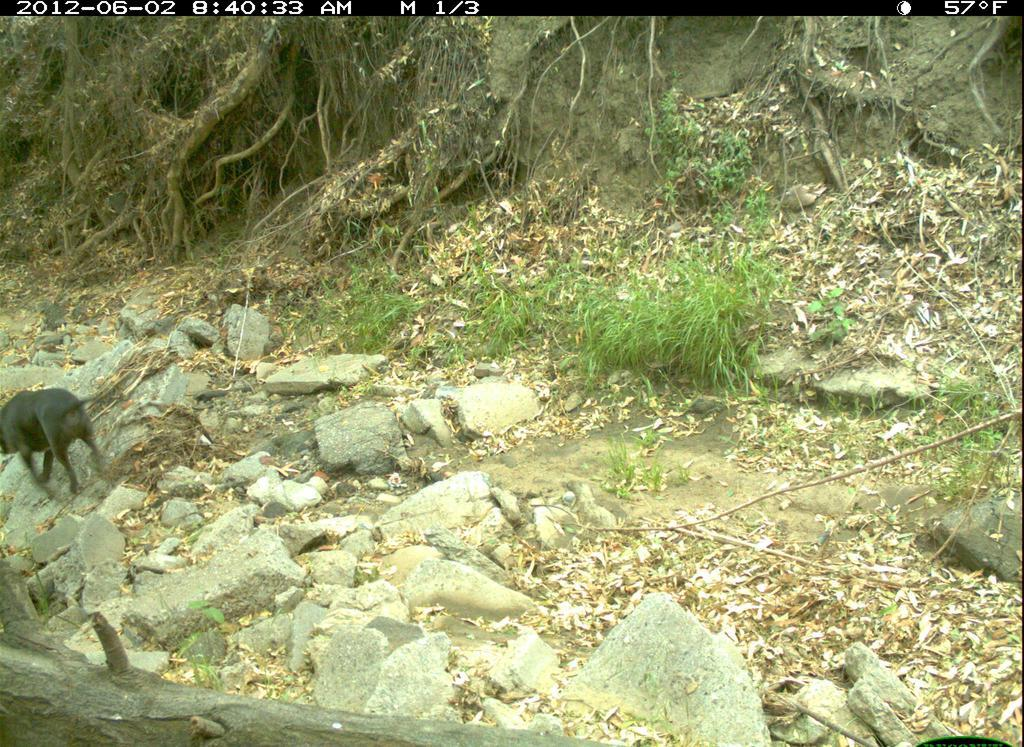dog: (1, 379, 114, 496)
